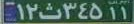character: (38, 1, 63, 24), (88, 1, 104, 22), (63, 1, 77, 24), (25, 1, 38, 24), (77, 1, 88, 22), (15, 2, 26, 22), (119, 6, 130, 24), (106, 6, 117, 23)
